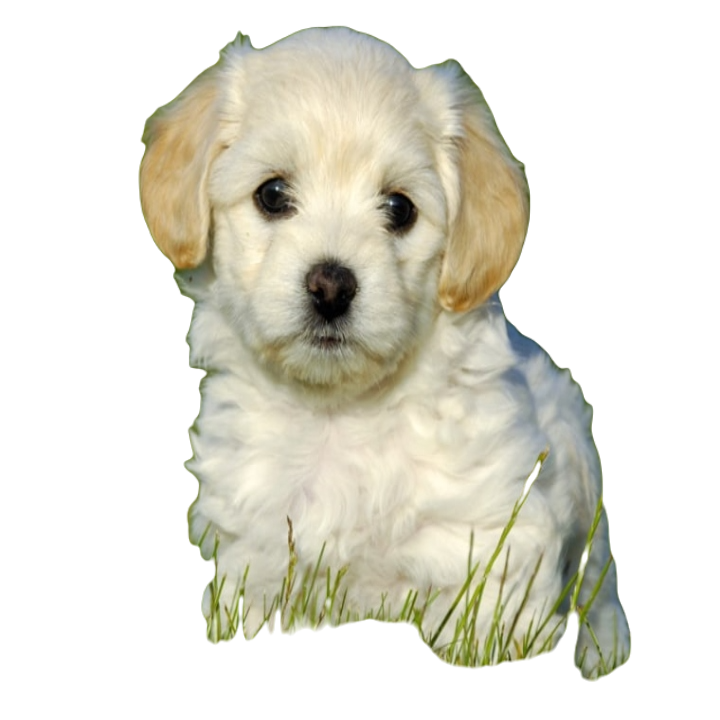Dog: (131, 26, 629, 679)
